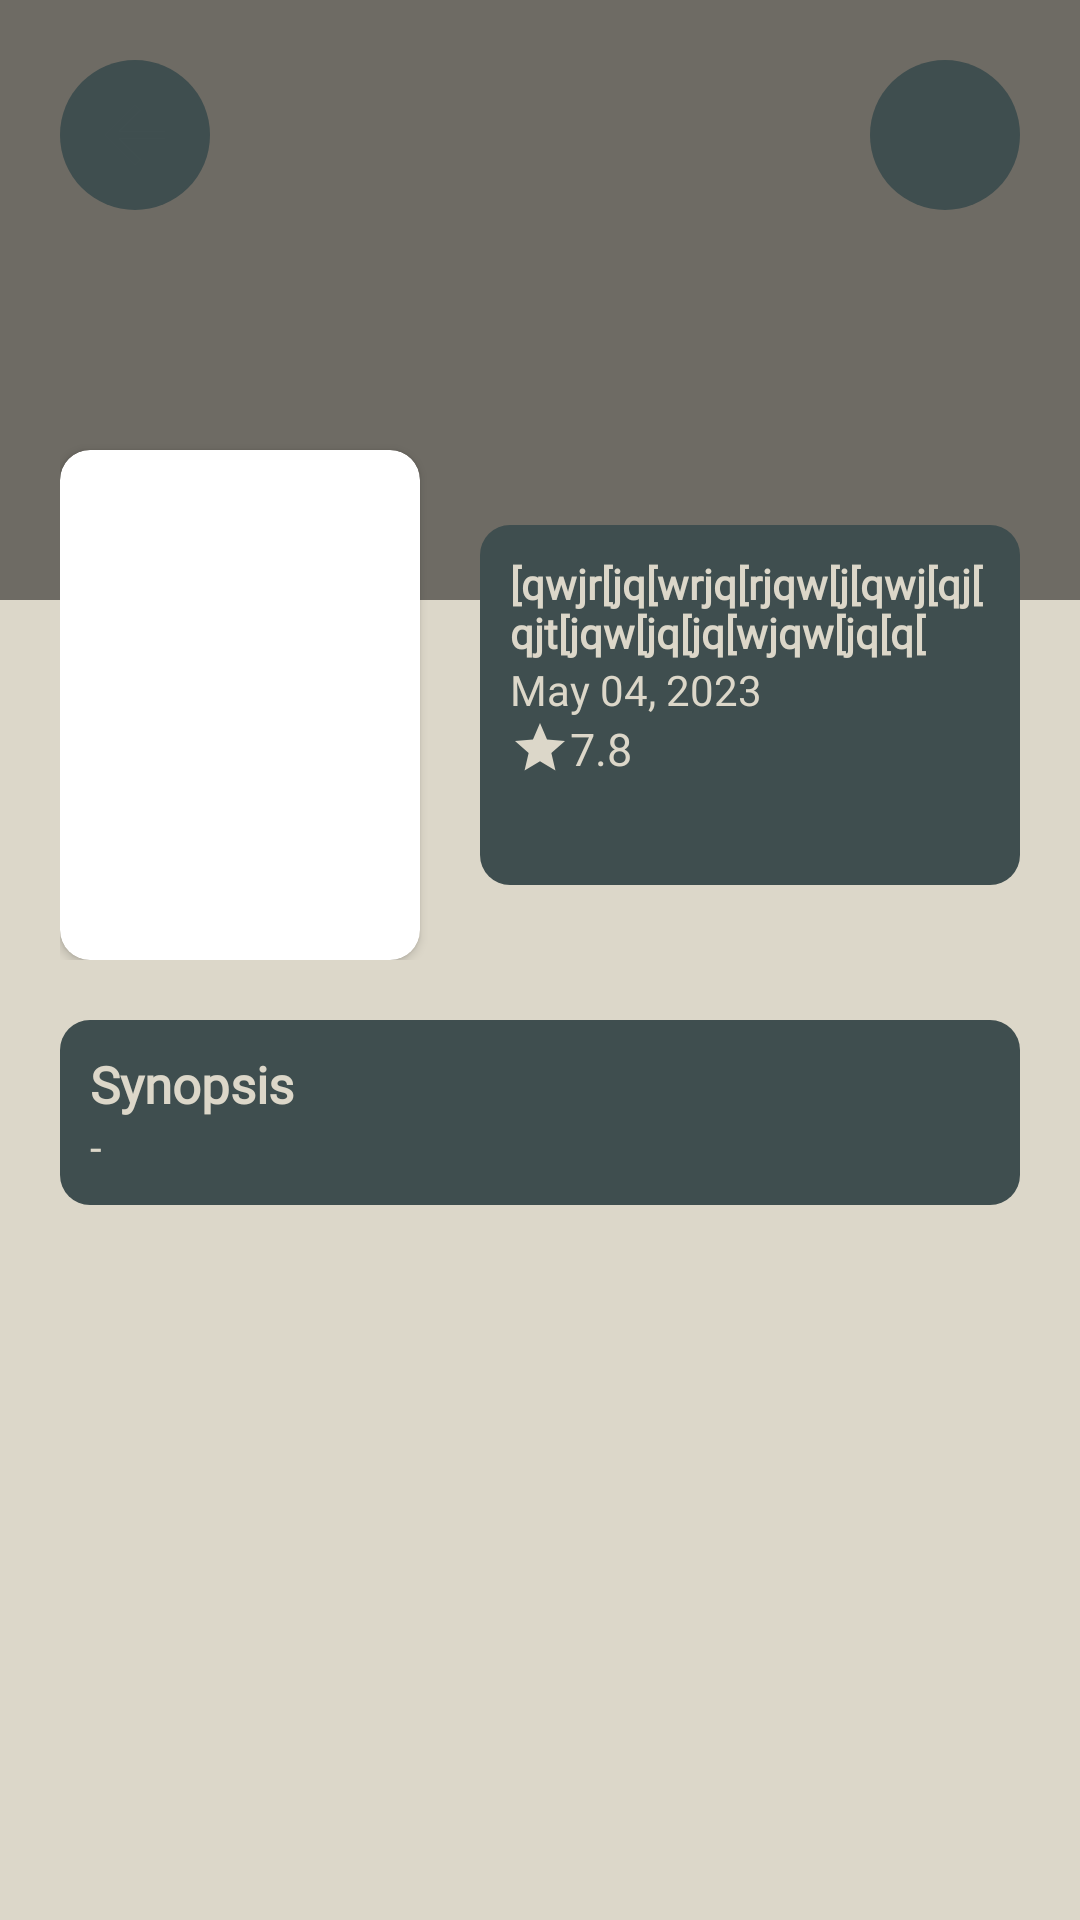

Point at icon controls on the screen. Image size 1080px×1920px, points as (x,y).
star: (540,746)
